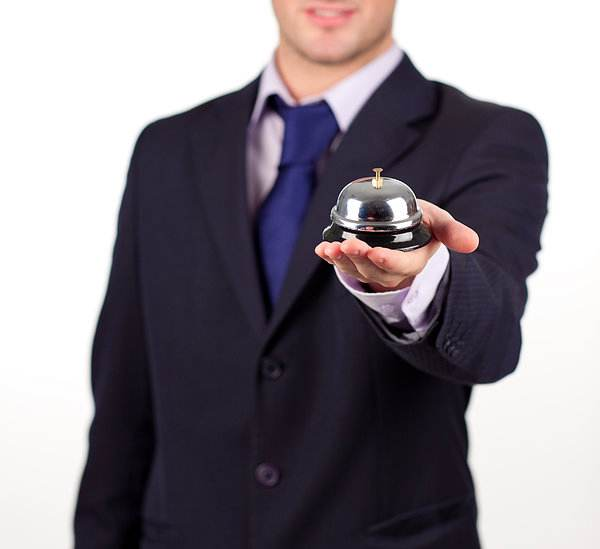no-phone: (308, 156, 481, 289)
